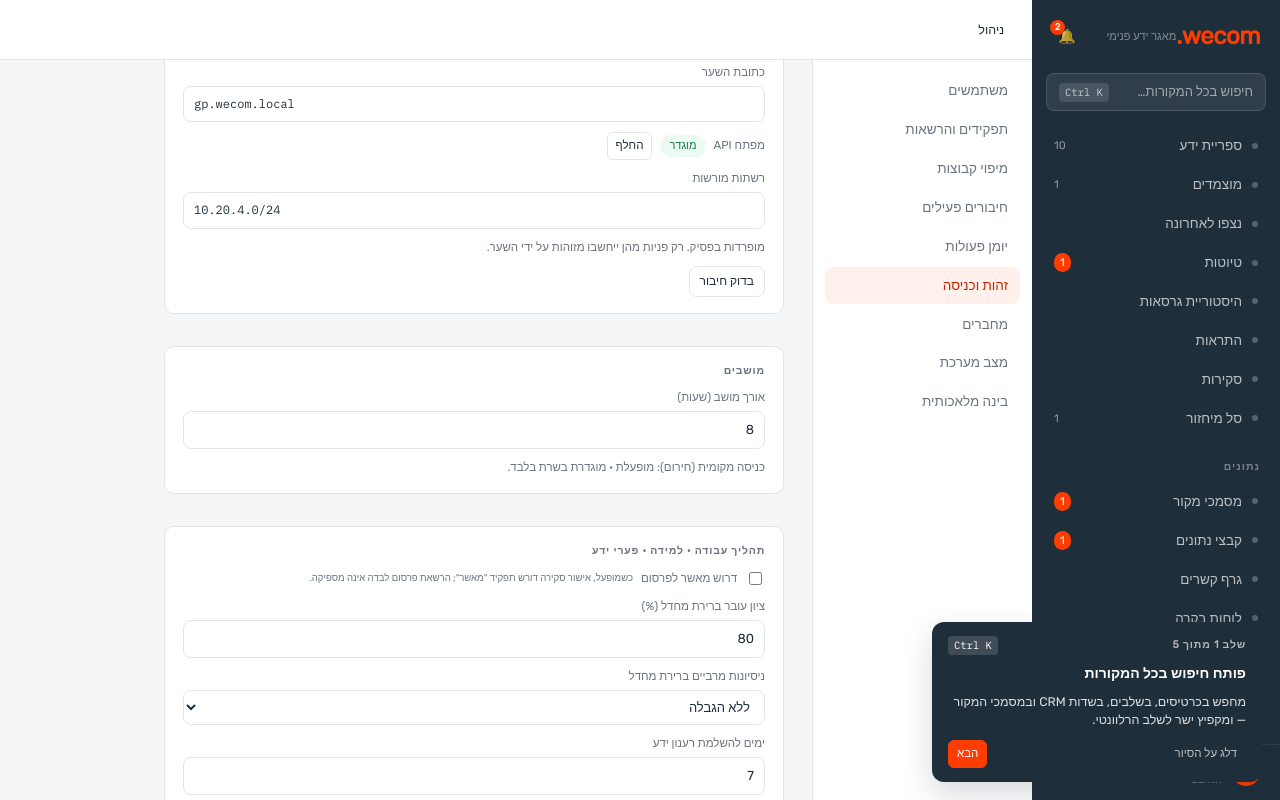
Test: admin · identity › omits untouched secrets from the PUT so an unrelated save cannot wipe them
This screenshot has width=1280, height=800.
(page scrolled)
Replace the text in the number field labelled "אורך מושב (שעות)" with "12" at (474, 430), box [183,411,765,449]
(page scrolled)
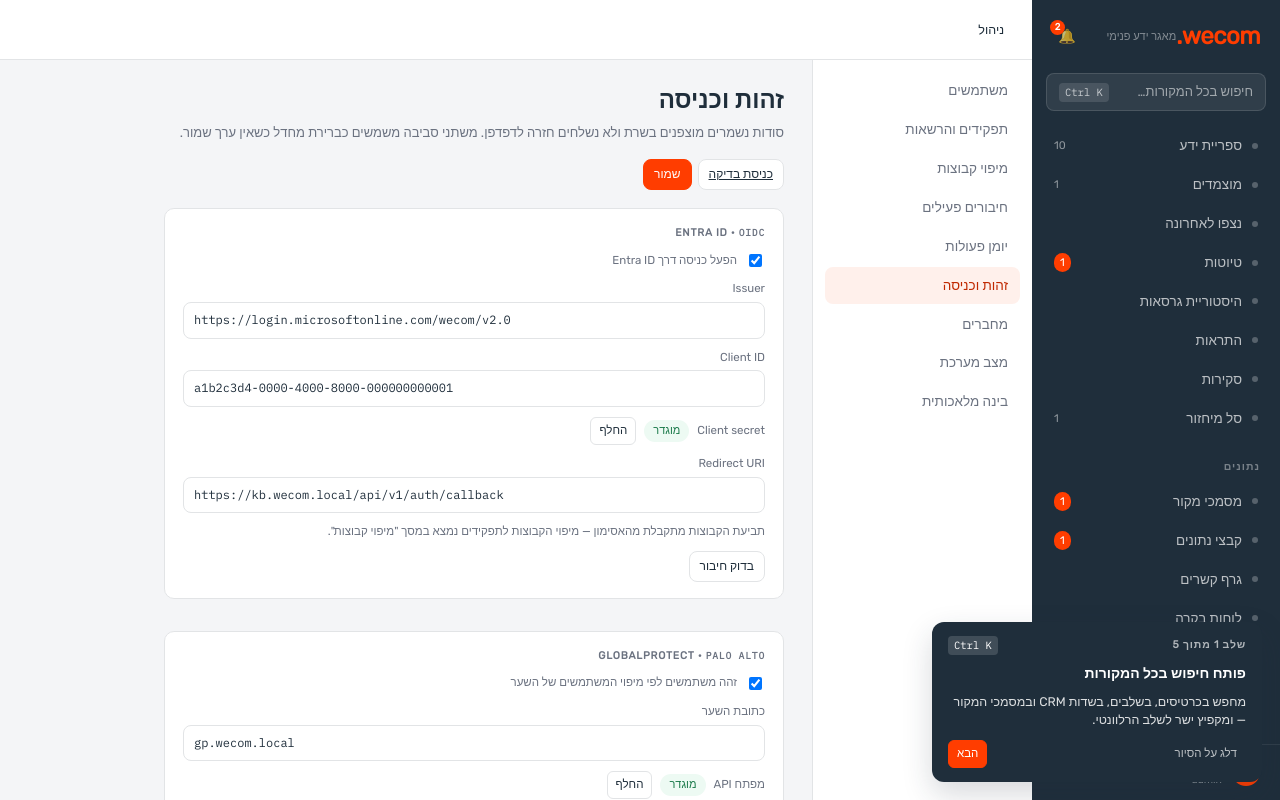
Click the button "שמור".
click(667, 175)  # box [643,159,692,190]
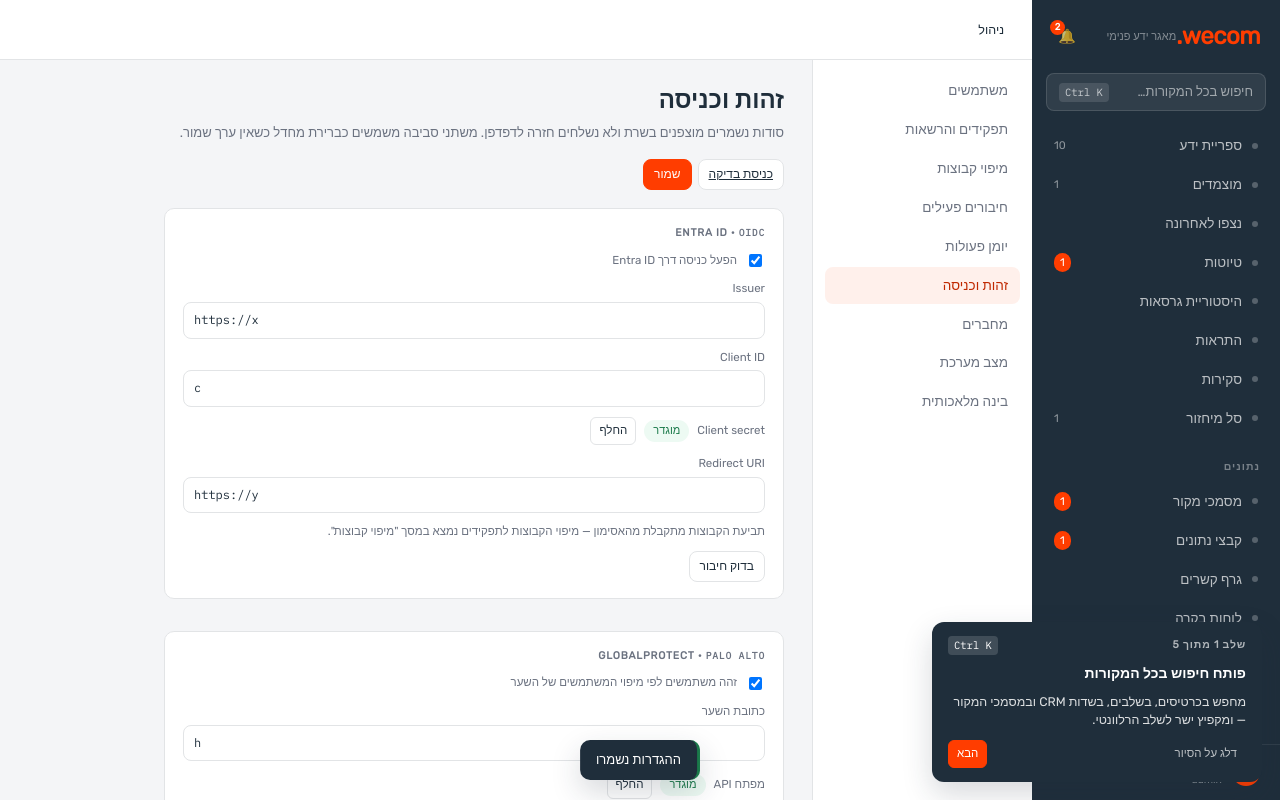
Expected: the text "ההגדרות נשמרו" is shown, [596,750,681,770]
